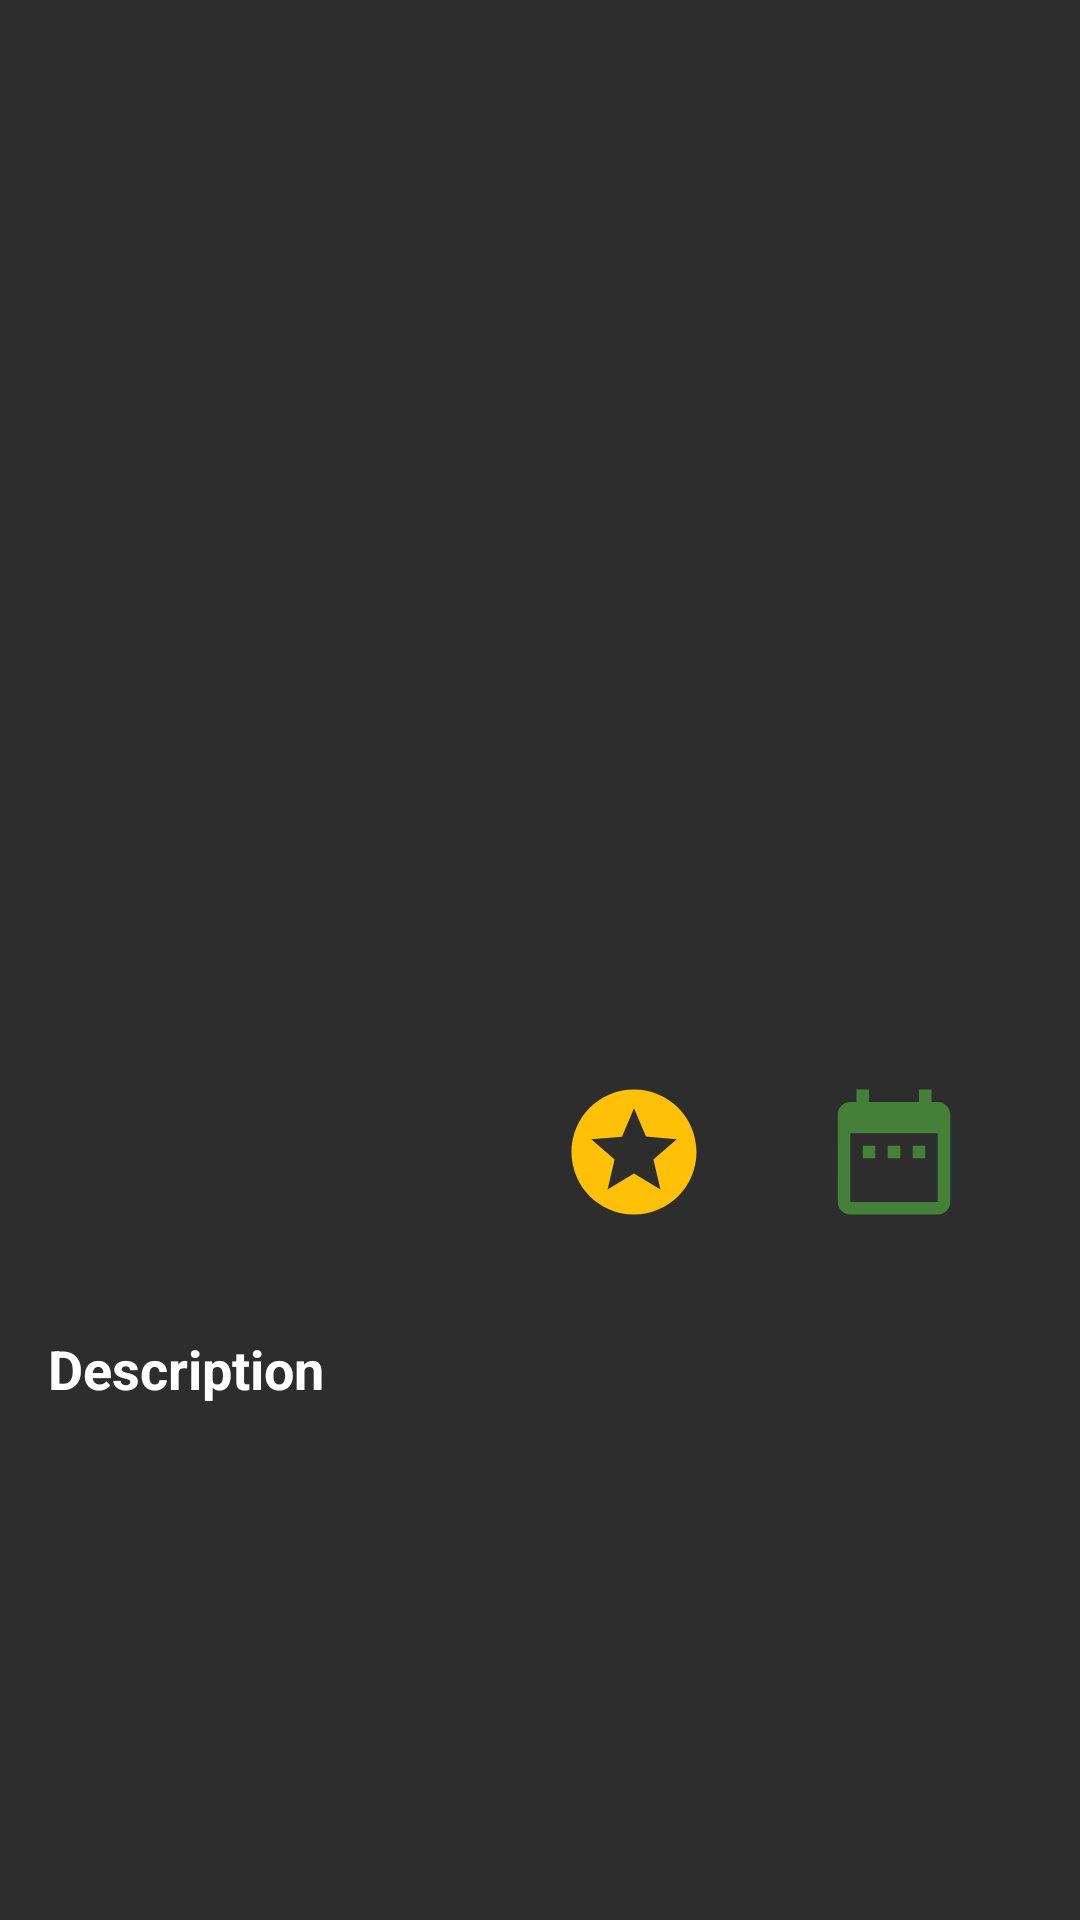

Locate icon controls on the screen. Image size 1080px×1920px, boxes as (x1, y1, x2, y2).
release date: (838, 1089, 950, 1215)
star: (571, 1089, 697, 1215)
